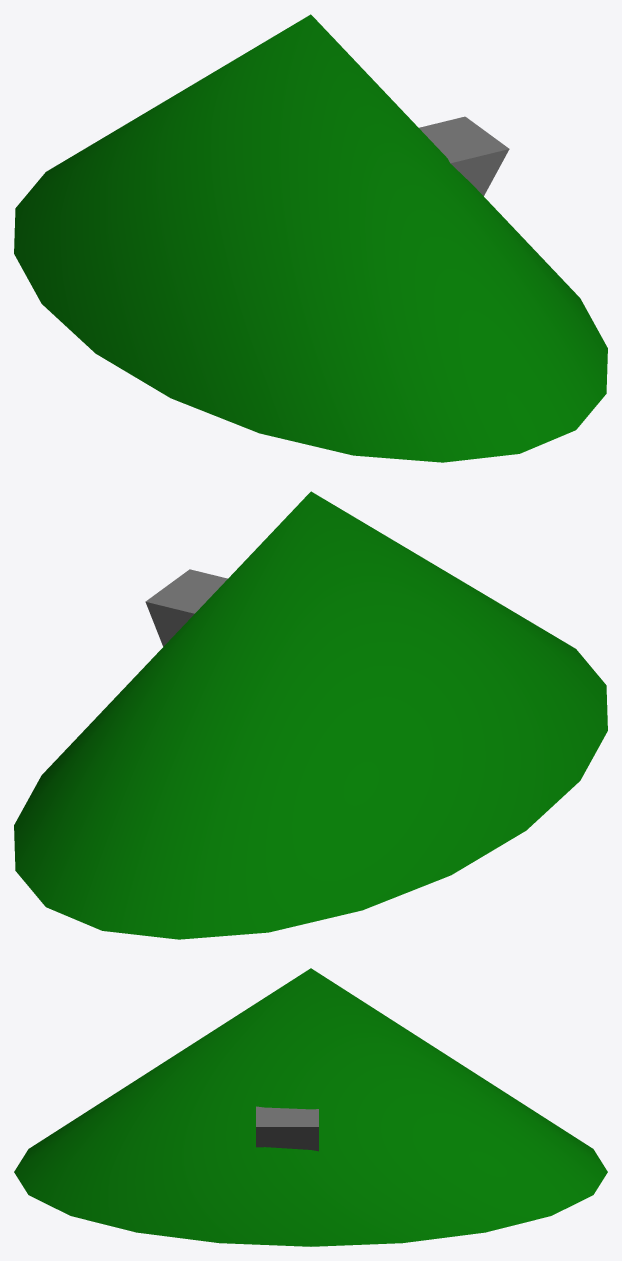
The model's file is Mountain and Stairs 1.fbx.
3 renders of one model, top to bottom at view 1: azimuth 30°, elevation 25°; view 2: azimuth 150°, elevation 25°; view 3: azimuth 270°, elevation 25°, orthographic. The views are drawn at different scales.
Visible parts, largest first — view 1: polySurface14; view 2: polySurface14; view 3: polySurface14.
Boxes of the visible parts, x1,y1,x2,y2 form: polySurface14: [14, 14, 607, 462]; polySurface14: [14, 491, 607, 939]; polySurface14: [14, 968, 607, 1246].
Size of the model in its own units: 7.95 by 5.06 by 13.35.
